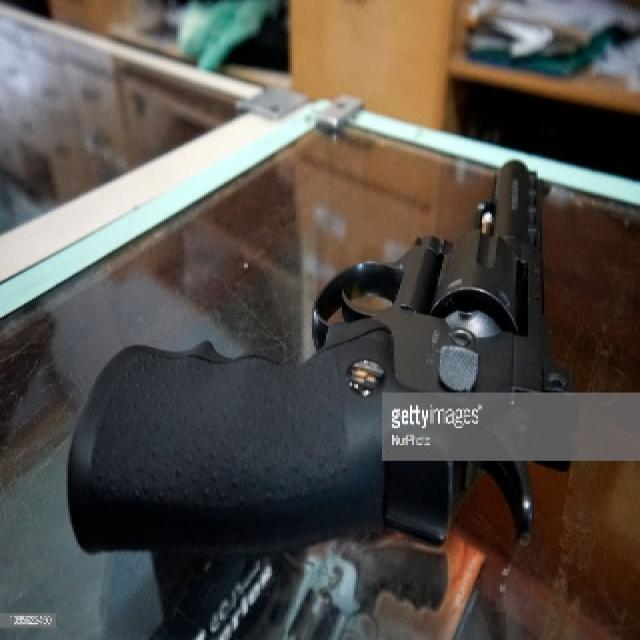weapon: (58, 154, 550, 554)
